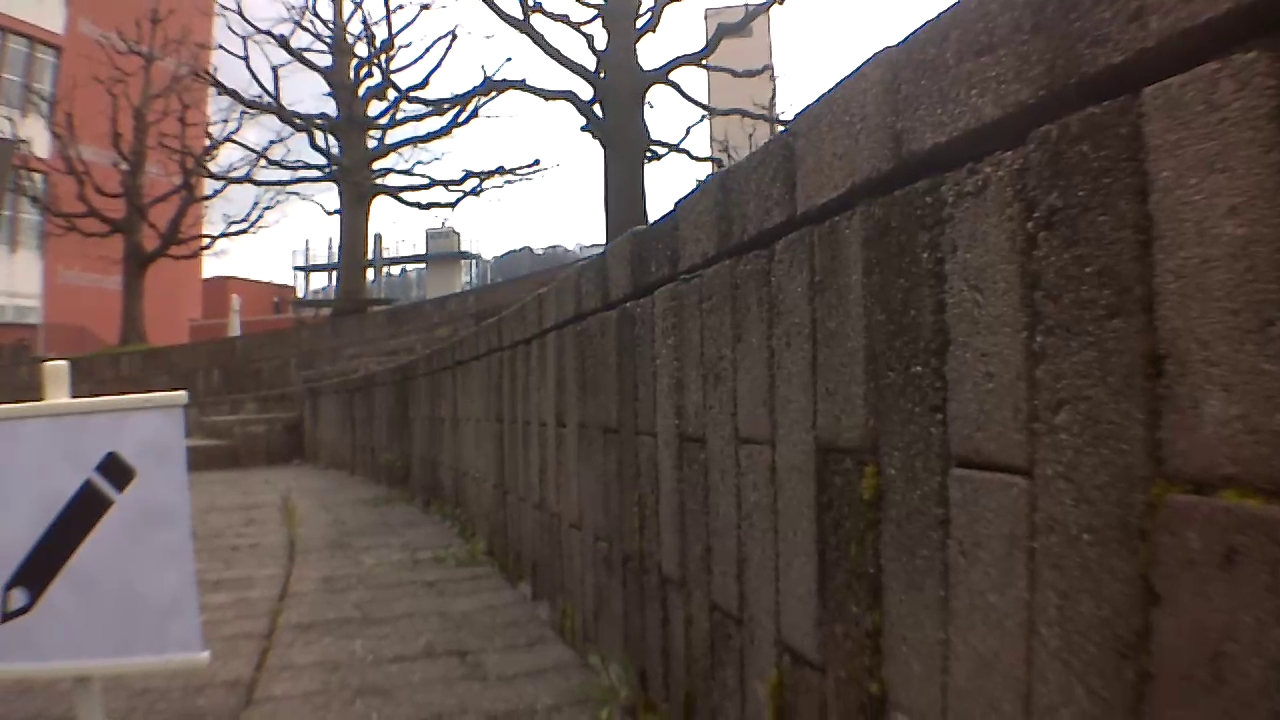pencil: (0, 443, 142, 623)
